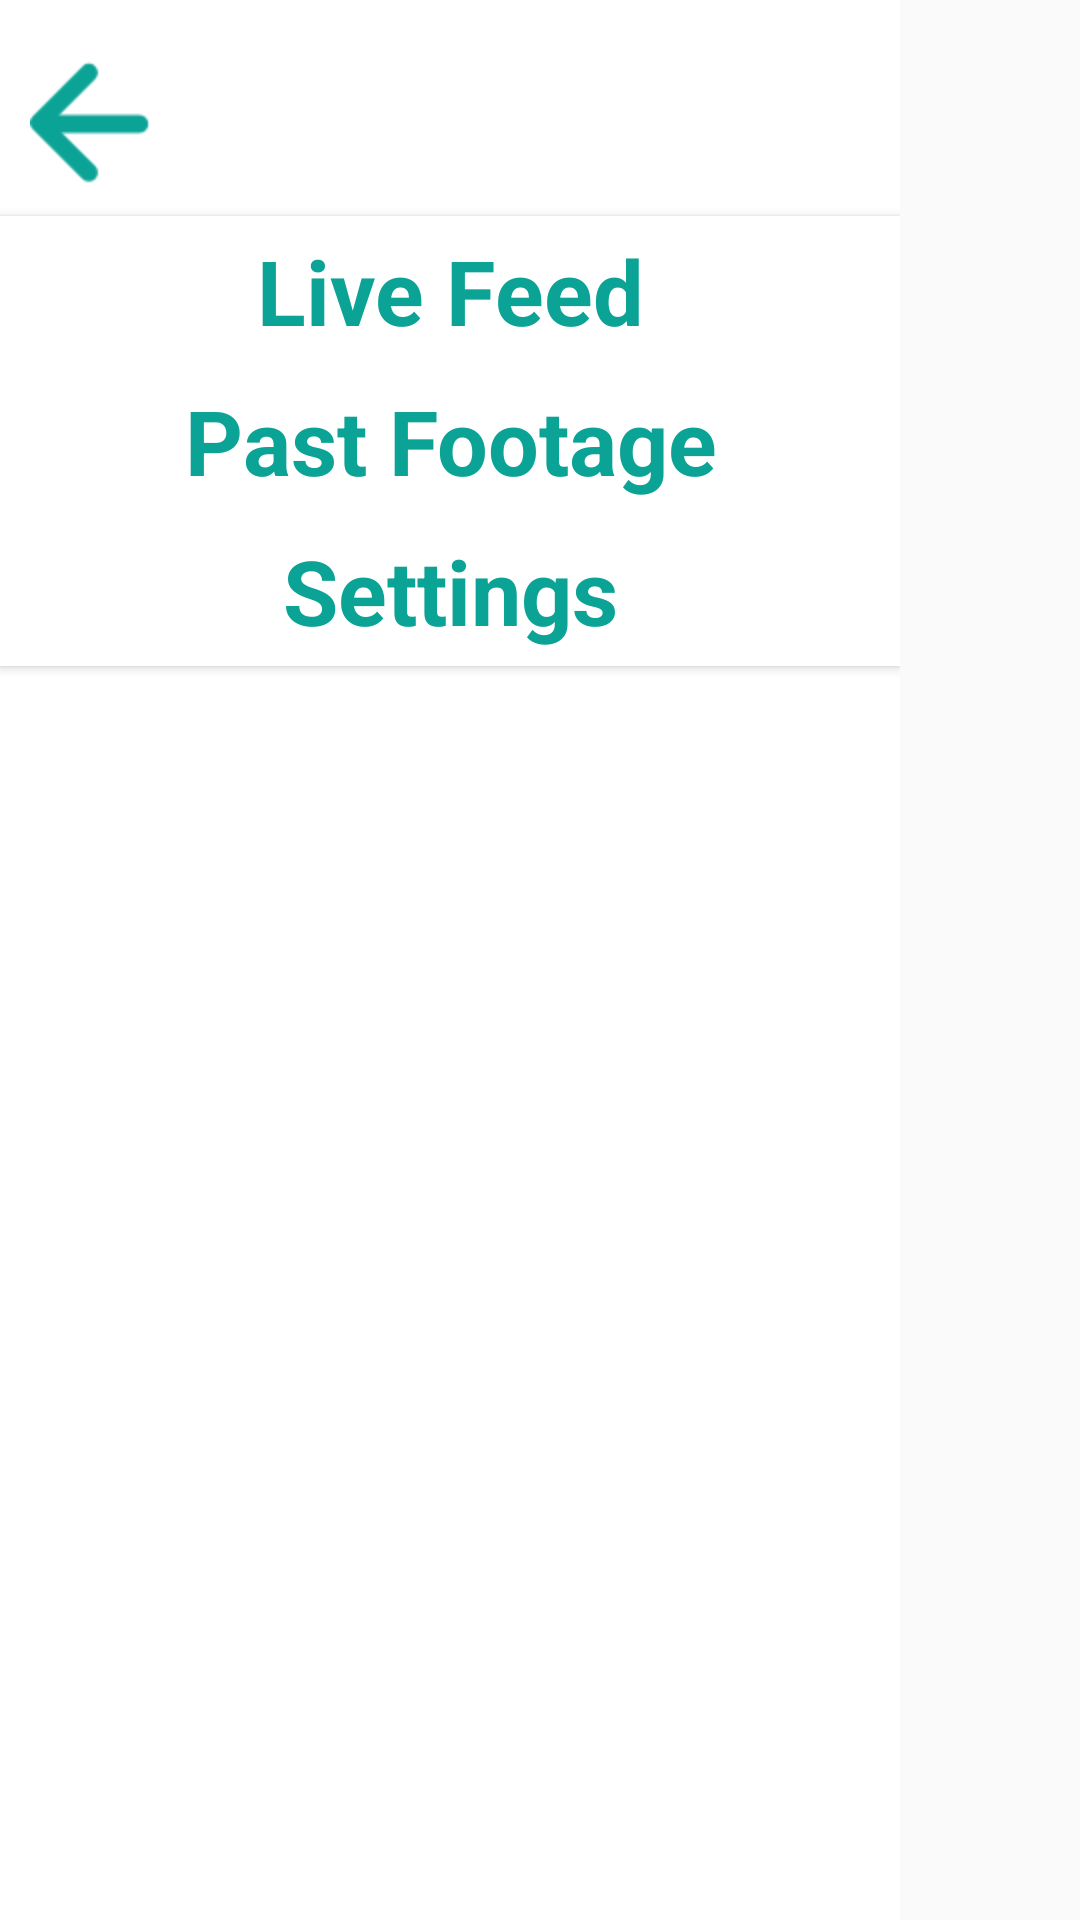

Where icons sit on this 1080px x 1920px app screen, as box=[x1, y1, x2, y2]:
menucloseicon: box=[30, 62, 149, 183]
